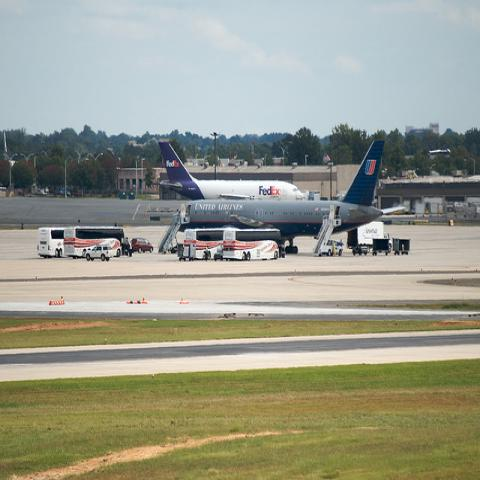bus: (63, 225, 126, 259), (223, 230, 282, 259), (183, 228, 224, 260), (37, 227, 65, 260)
car: (85, 246, 112, 262), (319, 240, 342, 256), (351, 244, 368, 256)
truck: (347, 221, 392, 253), (85, 244, 113, 262), (132, 237, 153, 254)
